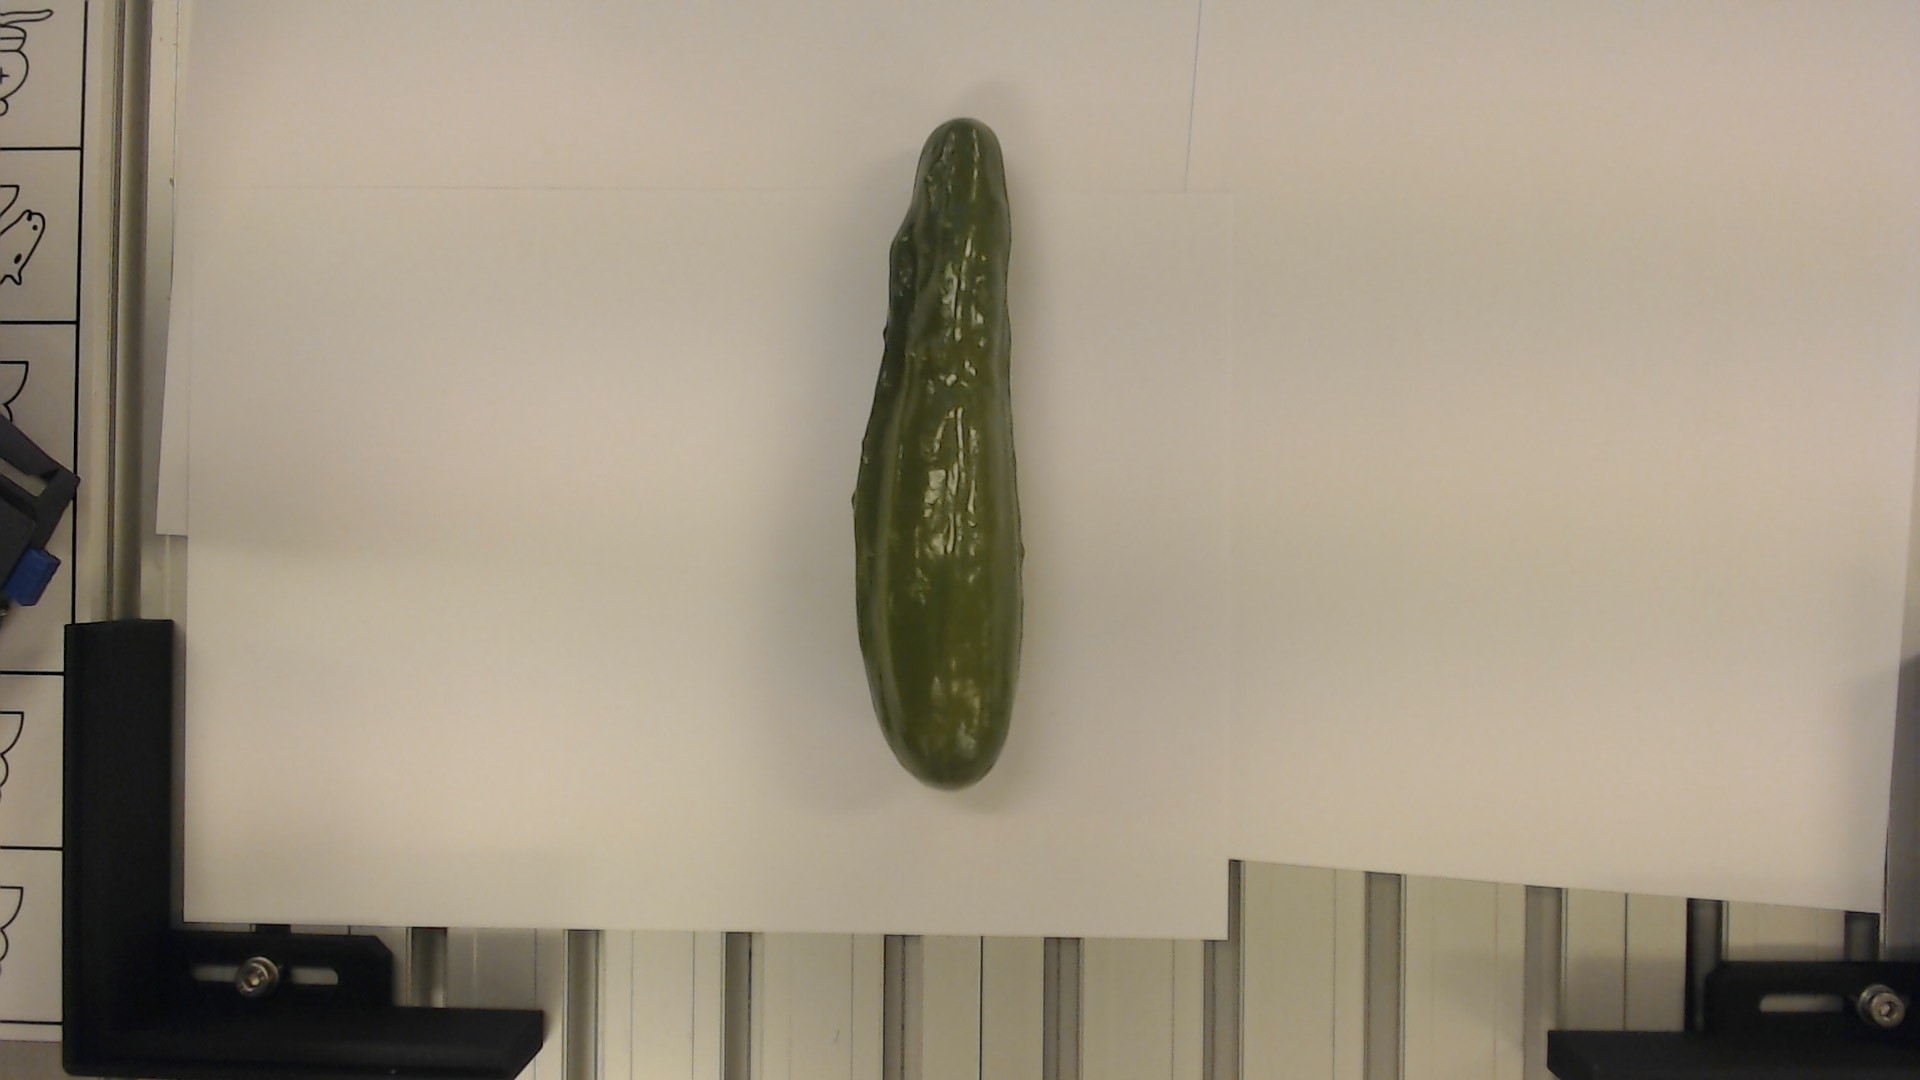Cucumber: (851, 109, 1039, 796)
